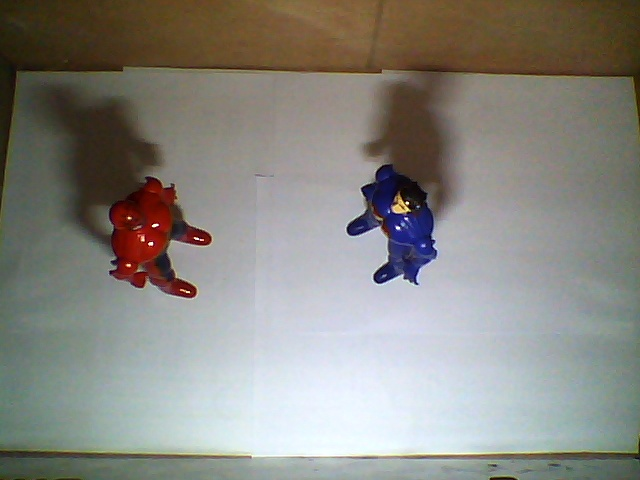human_figure: (110, 175, 212, 299), (345, 165, 438, 284)
